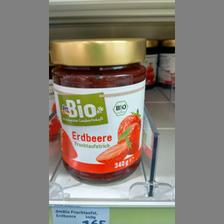Marmelade: (48, 36, 148, 184)
